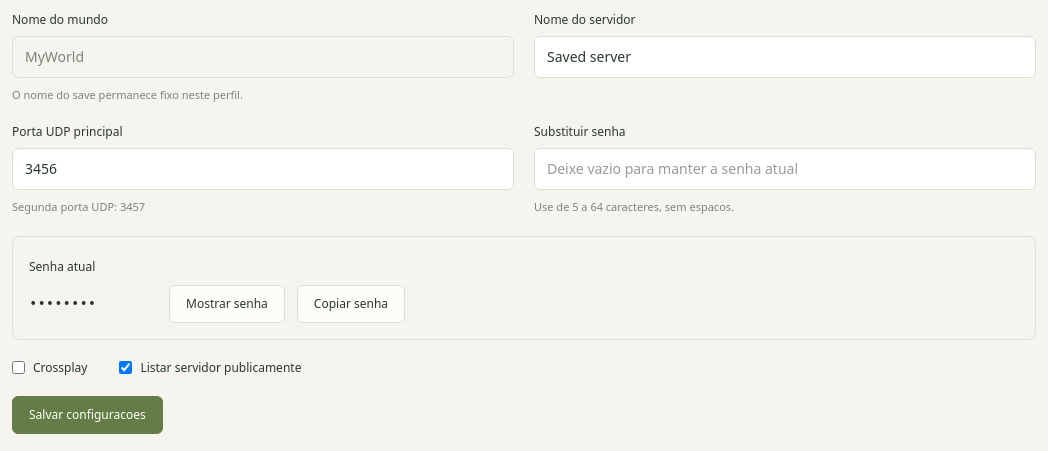
Test: Profile settings form › fetches a stored password only on explicit reveal and hides it again
Expected: the text "private-secret" is not shown
Click the button "Mostrar senha" at (227, 304), box x1=169 y1=285 x2=285 y2=323
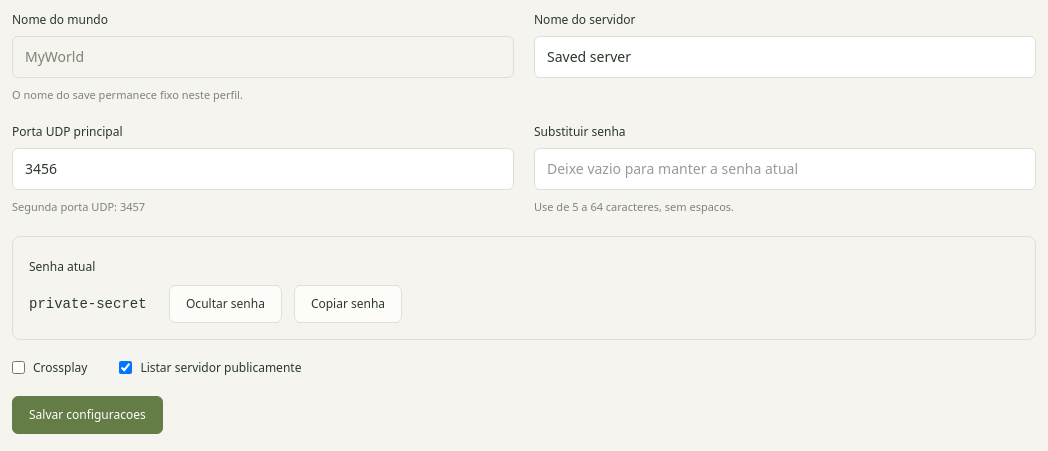
Expected: the text "private-secret" is shown, x1=29 y1=294 x2=157 y2=314
Click the button "Ocultar senha" at (225, 304), box x1=169 y1=285 x2=282 y2=323
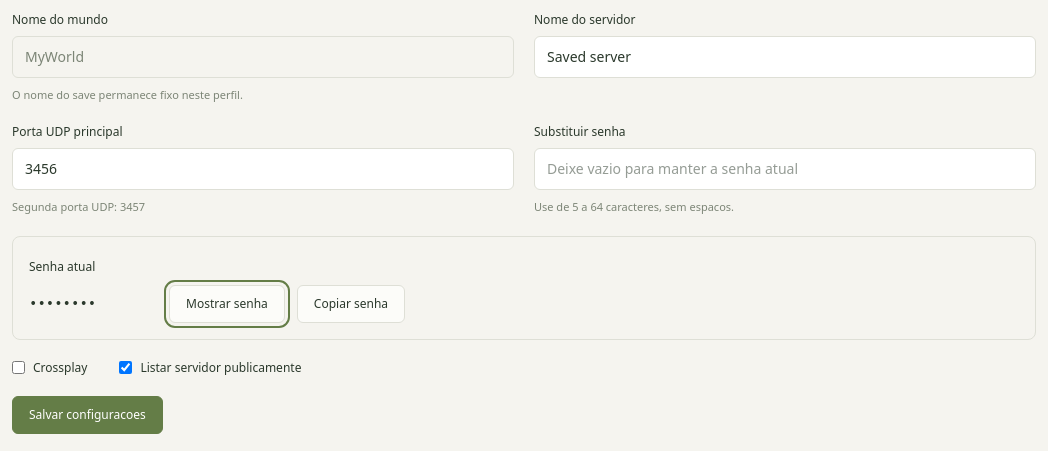
Expected: the text "private-secret" is gone
